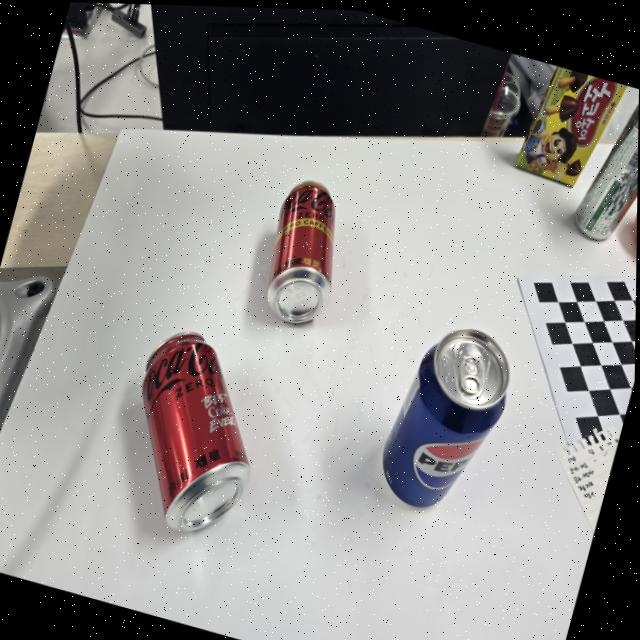can_coke_decaf: (267, 181, 335, 322)
can_coke_zero: (142, 332, 249, 530)
can_pepsi: (382, 328, 509, 507)
